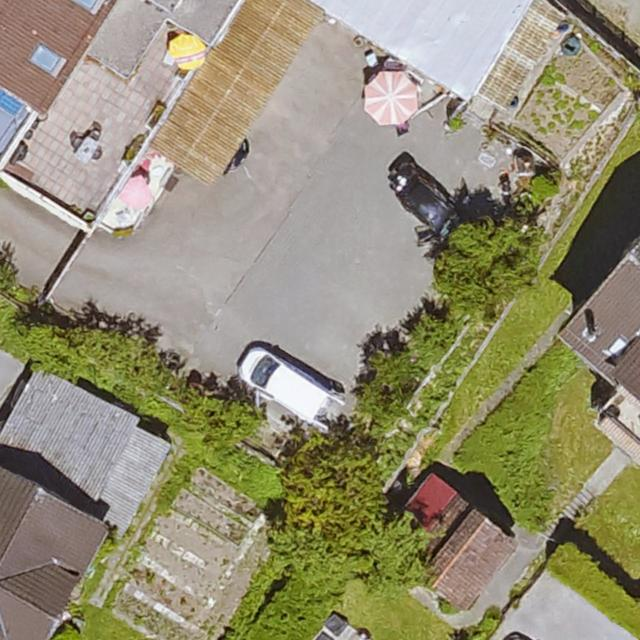tree: (275, 435, 384, 533), (436, 218, 541, 310), (185, 397, 264, 450), (279, 534, 341, 588)
